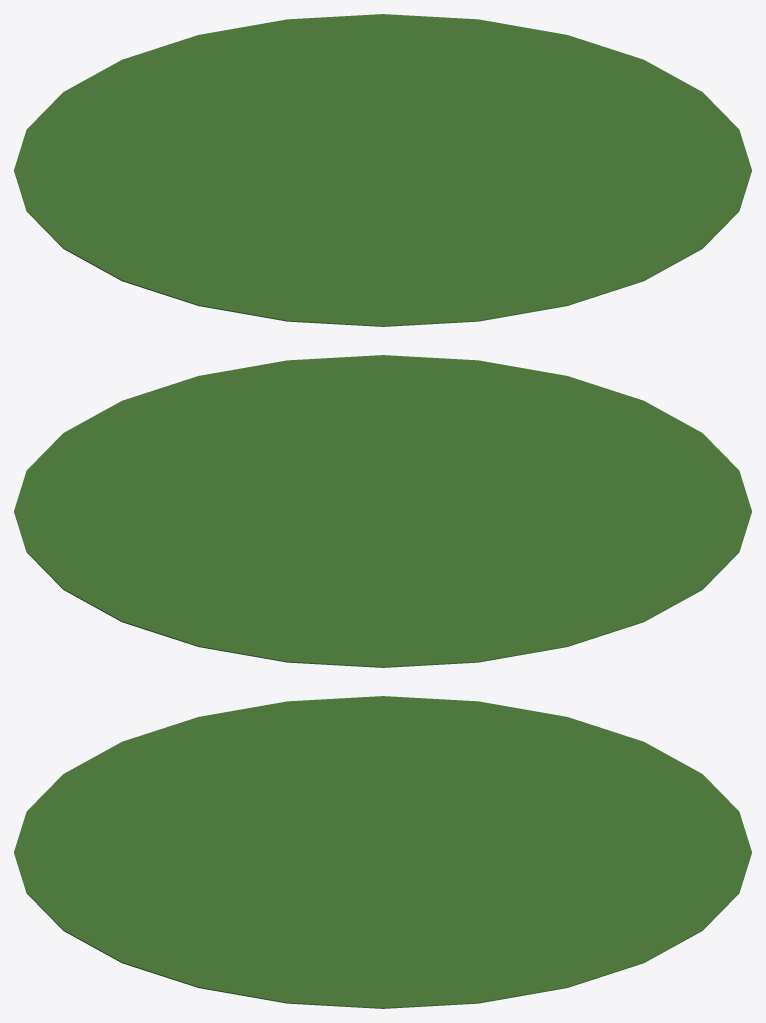
File: tf_golf_green_20m.glb
The picture shows the model from 3 angles, top to bottom: view 1: azimuth 30°, elevation 25°; view 2: azimuth 150°, elevation 25°; view 3: azimuth 270°, elevation 25°; orthographic projection.
Visible parts, largest first — view 1: tf_golf_green_20m; view 2: tf_golf_green_20m; view 3: tf_golf_green_20m.
Part boxes in pixels (box(x1,y1,x2,y2)): tf_golf_green_20m: box(14, 14, 751, 326); tf_golf_green_20m: box(14, 355, 751, 667); tf_golf_green_20m: box(14, 696, 751, 1008).
Size of what is drawn, in the model's own units: 20 by 0.03 by 20.
